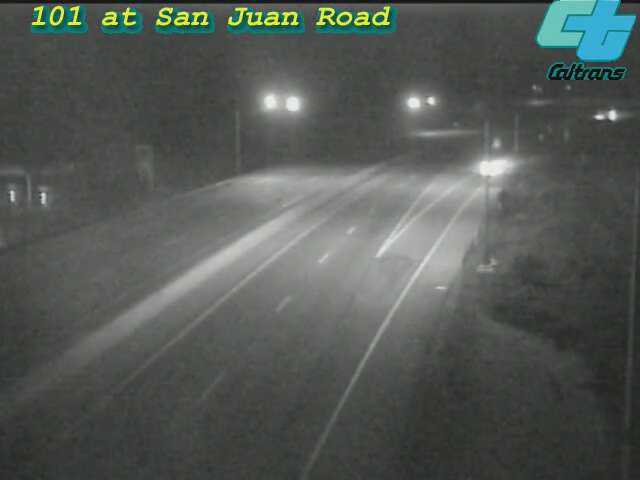vehicle: (455, 125, 535, 205), (589, 90, 639, 140)
